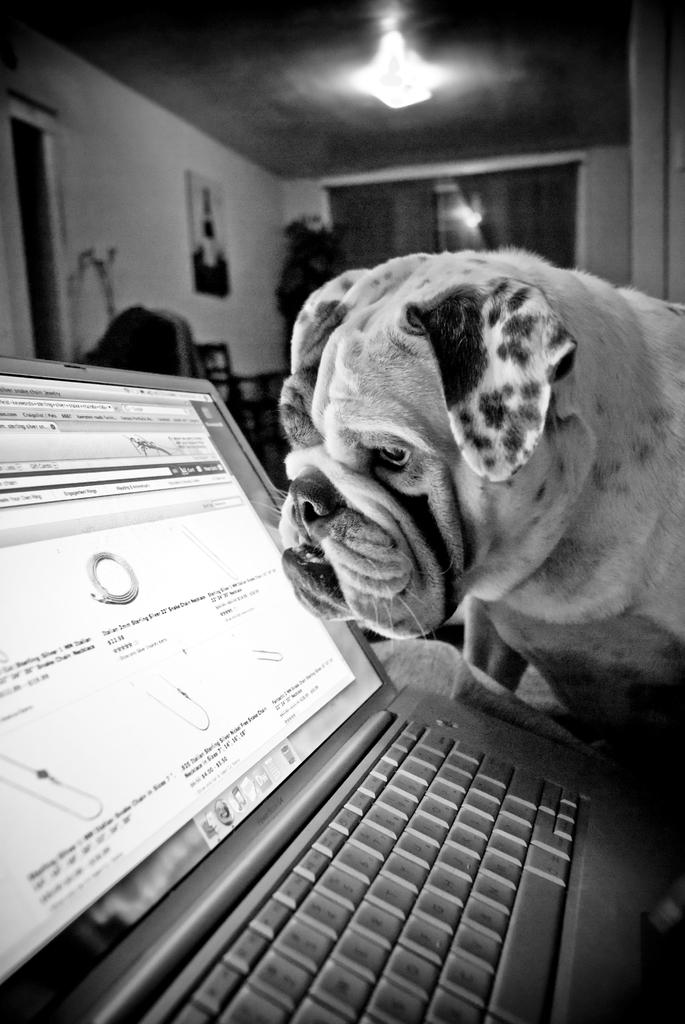Laptop: (0, 378, 647, 1023)
